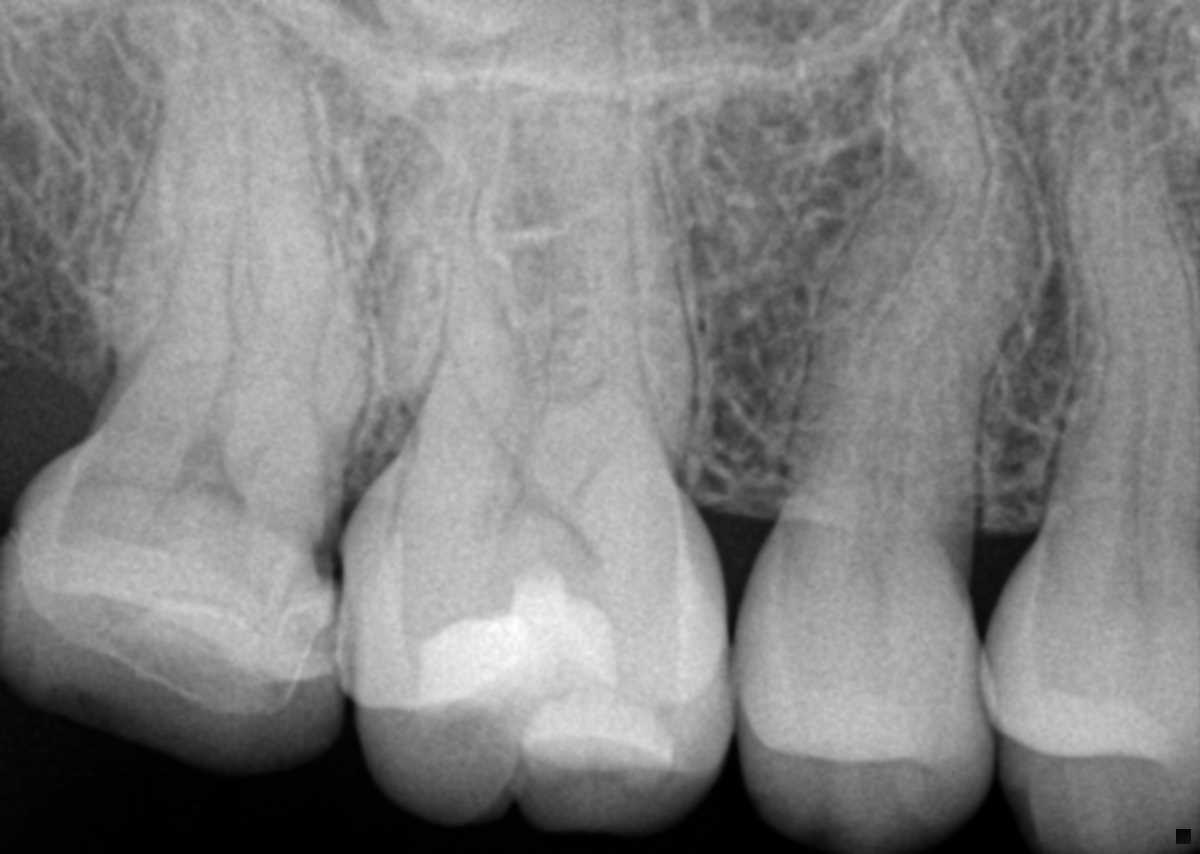Distal Root: (360, 104, 529, 490), (117, 2, 244, 390)
Main Canal: (1106, 111, 1148, 509)
Main Root: (778, 40, 1045, 539), (1031, 90, 1200, 529)
Mesial Root: (525, 98, 701, 495), (240, 37, 370, 457)
Palatal Root: (399, 0, 670, 473)
